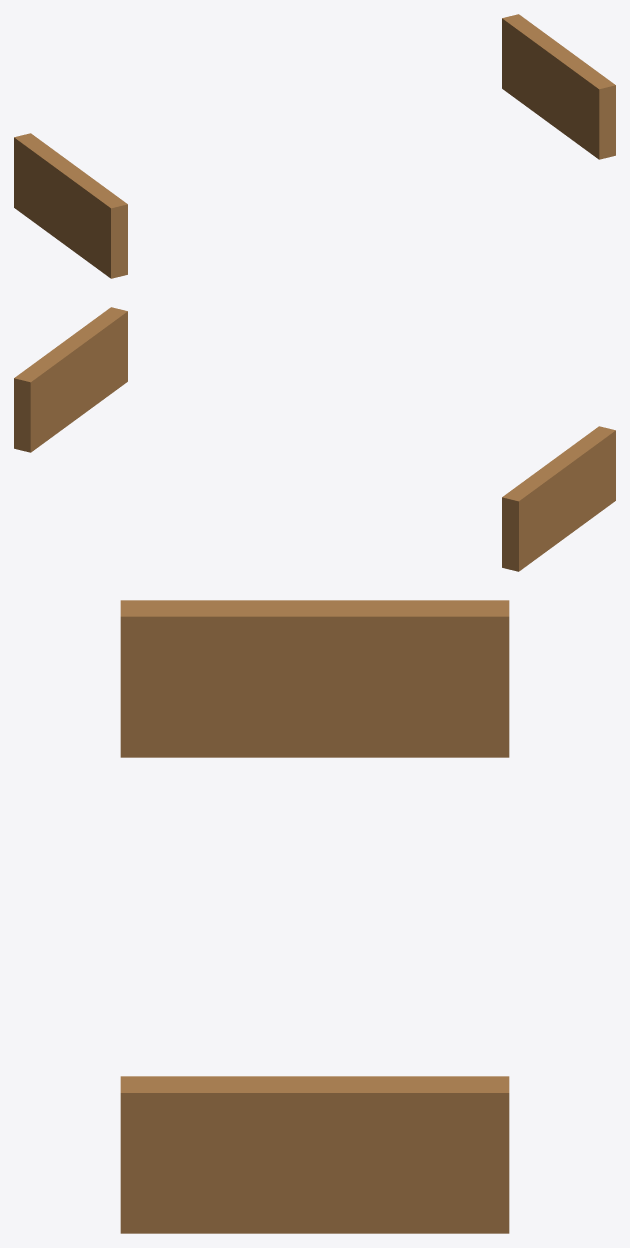
File: TOP_CENTRE.glb
The picture shows the model from 3 angles, top to bottom: view 1: azimuth 30°, elevation 25°; view 2: azimuth 150°, elevation 25°; view 3: azimuth 270°, elevation 25°; orthographic projection. The views are drawn at different scales.
Bounding box in the file's own units: 6 × 0.8 × 2.
